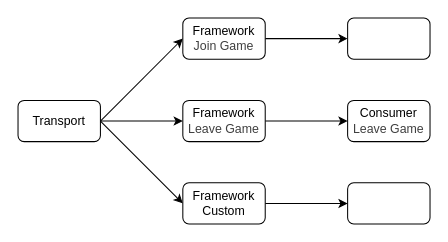
Image size: 448x242. Some labels were removed from this diagram. The shapes that lost their labels are listed below. From the top down, each one's centre as x and y in pixels, then its label:
At (388,38): "Consumer Join Game".
At (388,203): "Consumer Custom".
